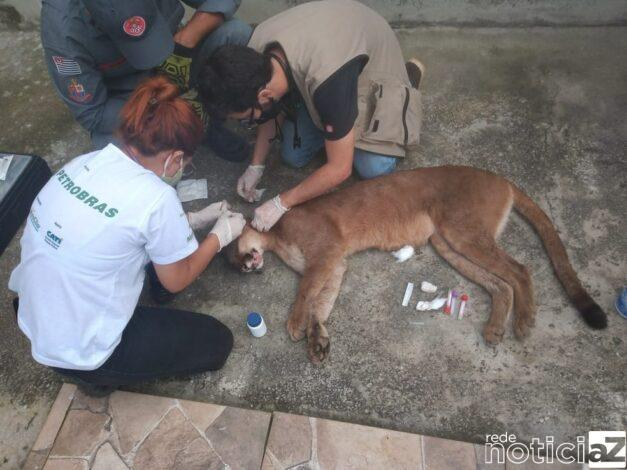OncaParda: (219, 168, 612, 355)
